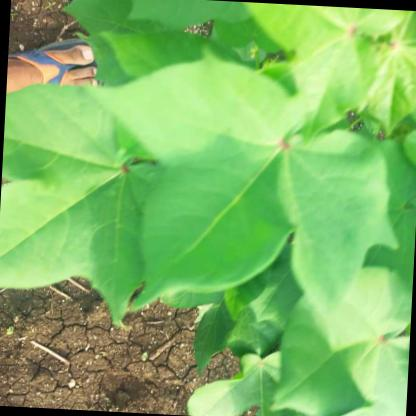cotton: (72, 51, 398, 340)
